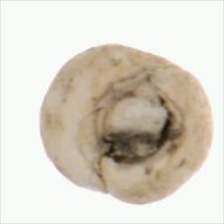L3: (94, 74, 175, 166)
L4: (38, 44, 213, 205)
